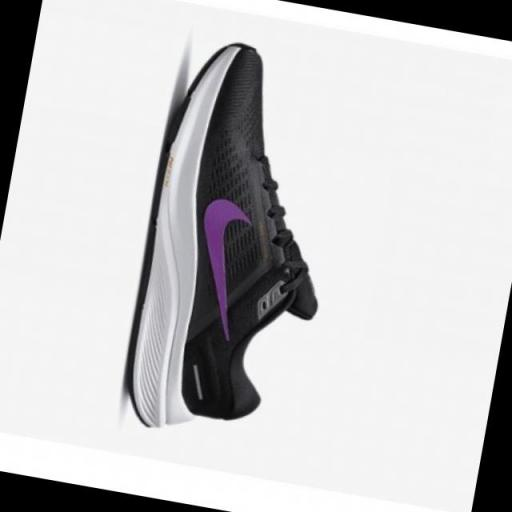Nike: (176, 187, 258, 351)
